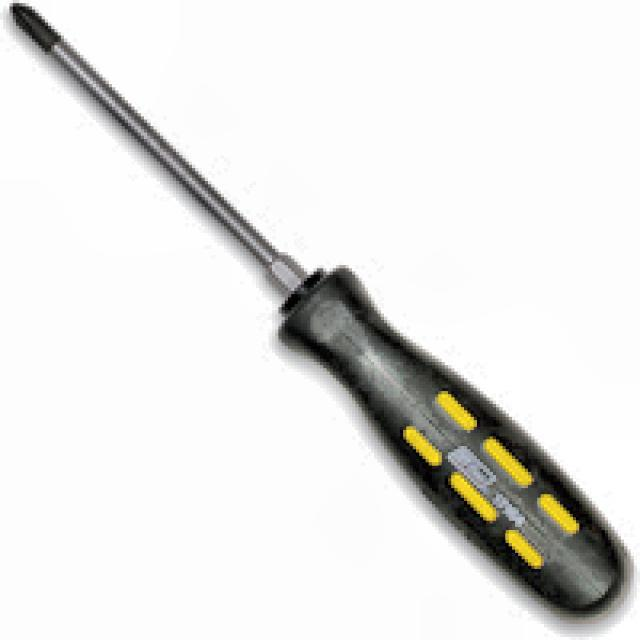screwdriver: (8, 2, 630, 624)
